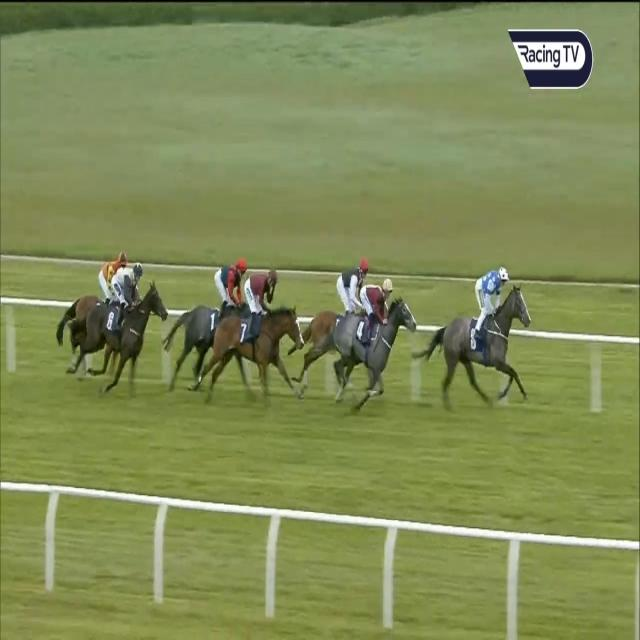horses-racing: (432, 266, 538, 409), (84, 257, 171, 395), (215, 268, 302, 406), (332, 278, 422, 399), (177, 255, 251, 384), (301, 241, 365, 377), (70, 250, 134, 321)
